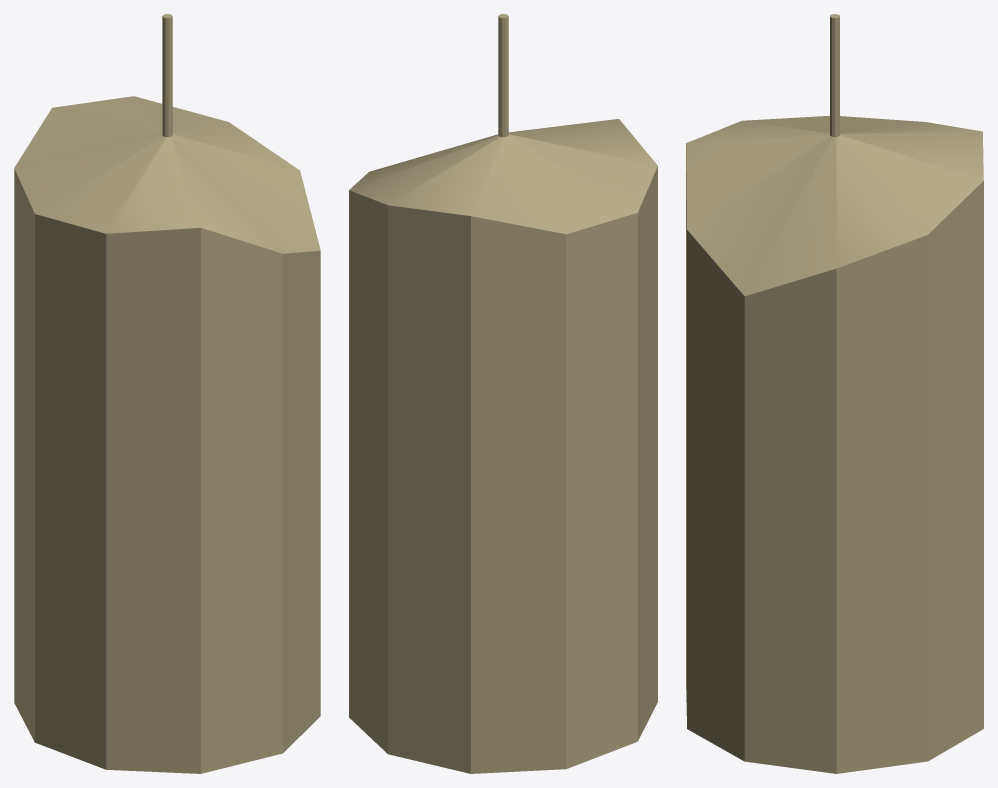
The model's file is Candle 5_OFF.fbx.
3 renders of one model, left to right at view 1: azimuth 30°, elevation 25°; view 2: azimuth 150°, elevation 25°; view 3: azimuth 270°, elevation 25°, orthographic.
Parts seen in each view (by area): view 1: Candle 4.009; view 2: Candle 4.009; view 3: Candle 4.009.
Boxes of the visible parts, <box> form: Candle 4.009: <box>14,14,320,773</box>; Candle 4.009: <box>349,14,657,773</box>; Candle 4.009: <box>686,14,983,773</box>.
Bounding box in the file's own units: 33.49 × 83.13 × 32.38.
